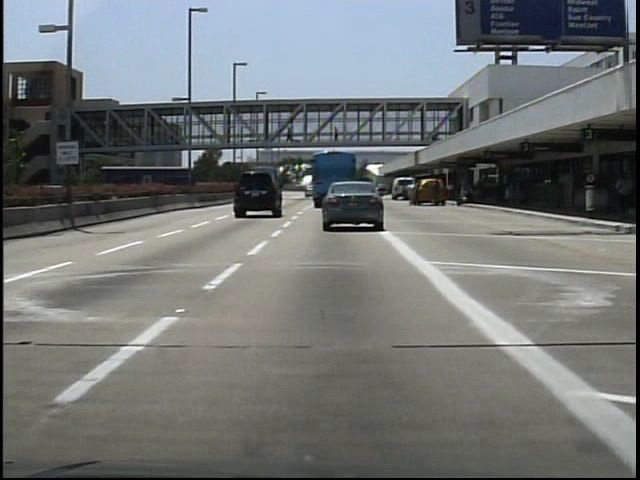person: (614, 169, 634, 220), (430, 177, 447, 211), (401, 179, 420, 209), (331, 124, 344, 151), (284, 122, 298, 143)
